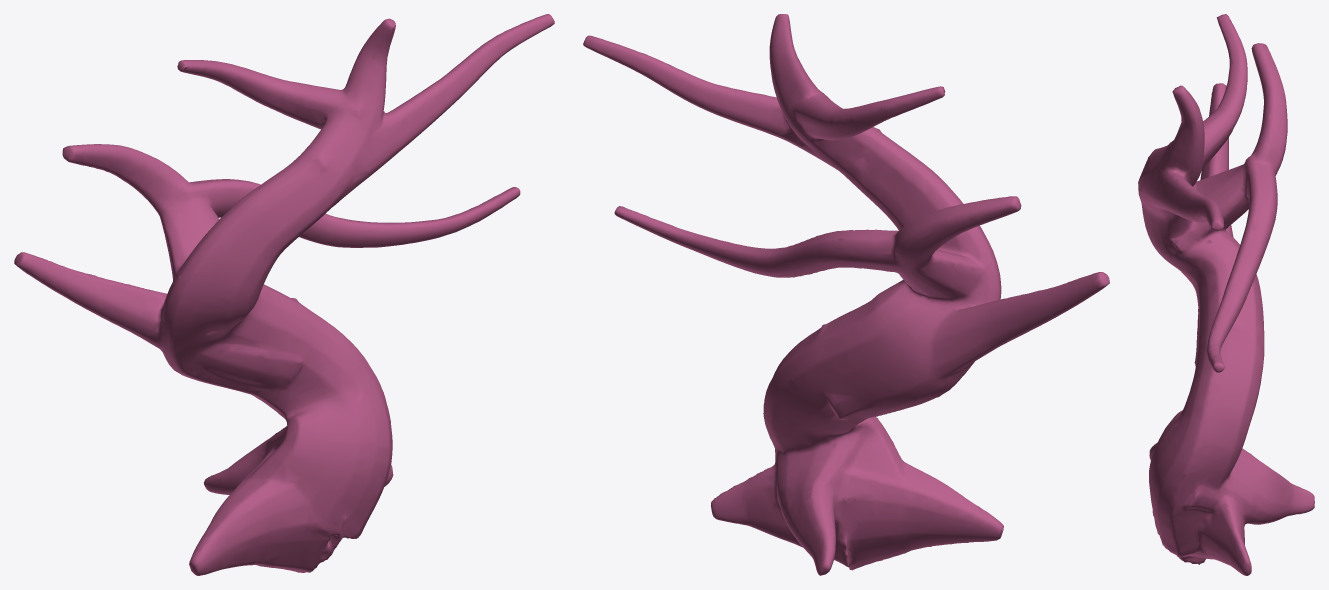
Rendered from graph-v02.glb.
The picture shows the model from 3 angles, left to right: view 1: azimuth 30°, elevation 25°; view 2: azimuth 150°, elevation 25°; view 3: azimuth 270°, elevation 25°; orthographic projection. The views are drawn at different scales.
Parts seen in each view (by area): view 1: Continuous aged trunk and primary branches; view 2: Continuous aged trunk and primary branches; view 3: Continuous aged trunk and primary branches.
Part boxes in pixels (left/top/right/bottom): Continuous aged trunk and primary branches: left=14, top=14, right=554, bottom=575; Continuous aged trunk and primary branches: left=583, top=14, right=1109, bottom=575; Continuous aged trunk and primary branches: left=1138, top=14, right=1314, bottom=575.
Bounding box in the file's own units: 1.8 × 1.74 × 0.5407.
